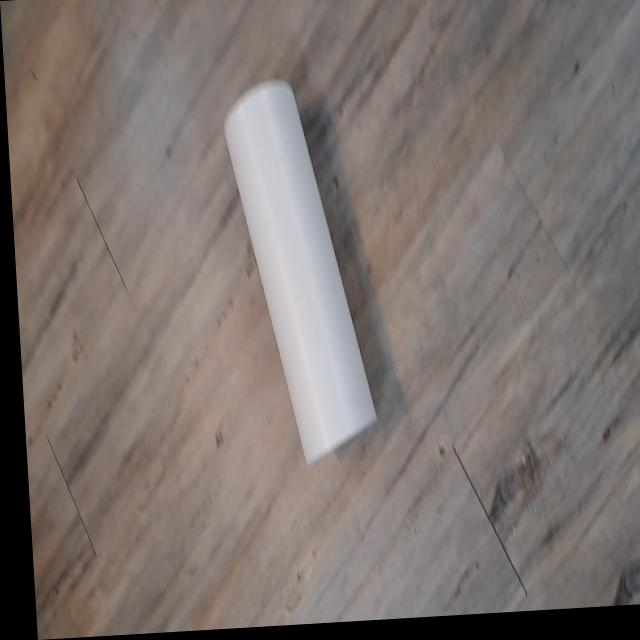CORAL: (219, 61, 392, 499)
